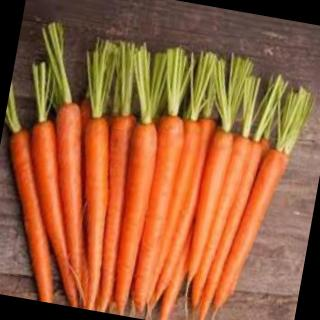Wortel: (1, 114, 112, 309), (31, 100, 110, 273), (212, 143, 290, 316), (129, 113, 190, 306), (103, 122, 163, 310), (184, 128, 235, 287)
